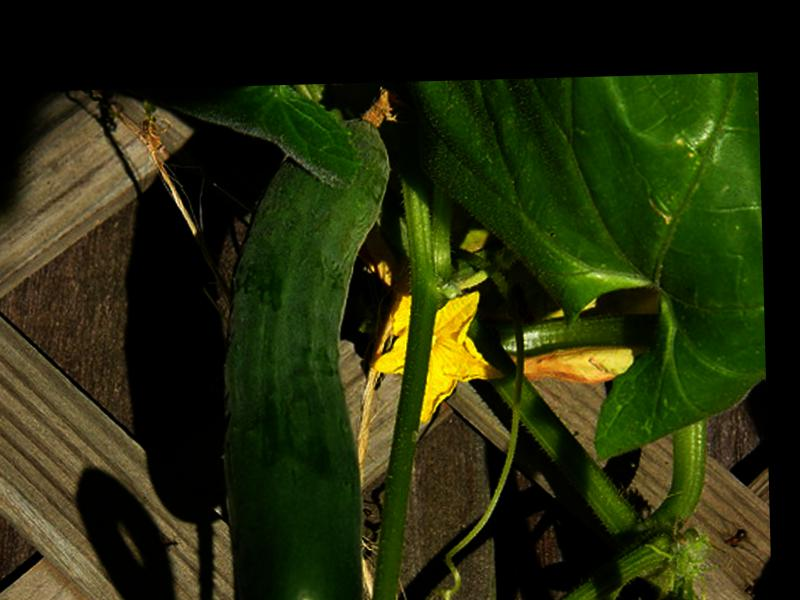Cucumber: (212, 88, 403, 600)
